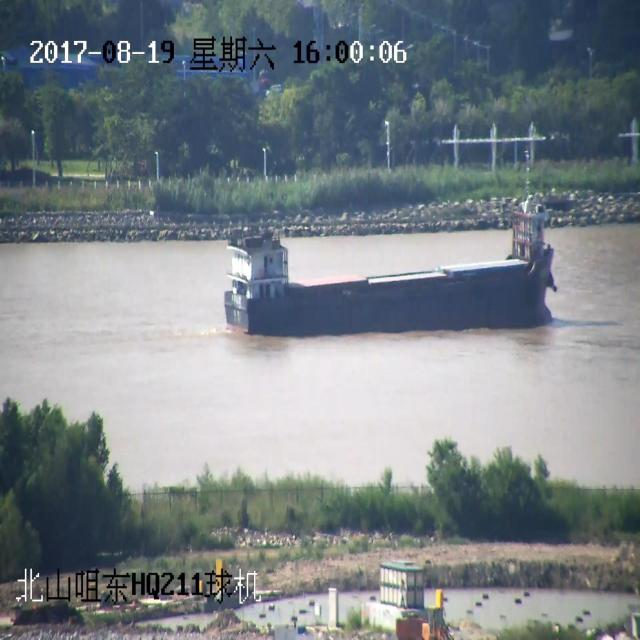houseboat: (220, 224, 569, 333)
